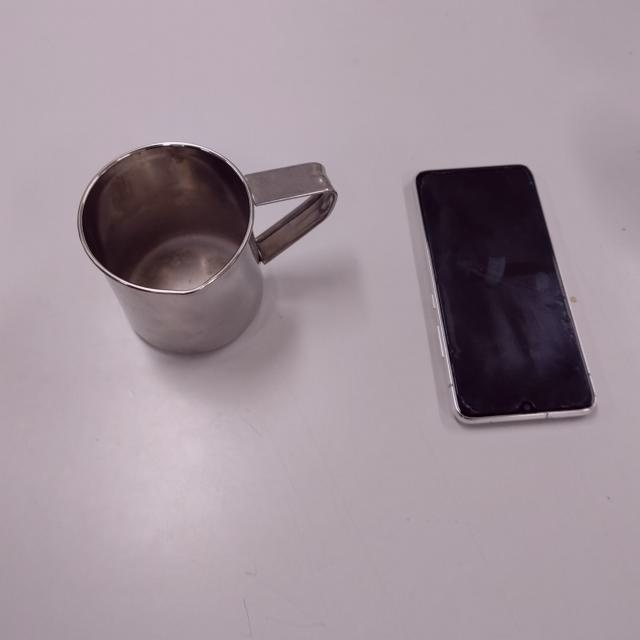cup: (76, 141, 339, 352)
phone: (417, 163, 597, 427)
